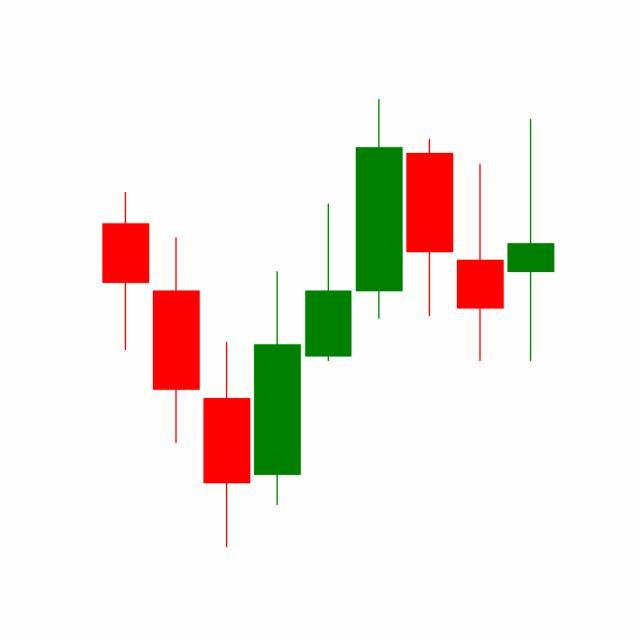Hikkake Pattern: (252, 99, 506, 510)
